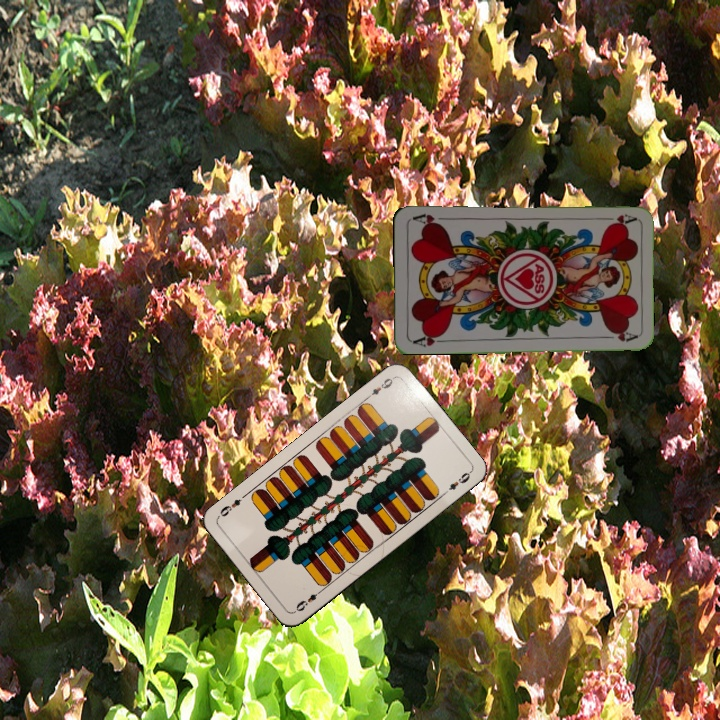E9: (290, 586, 325, 614), (367, 373, 397, 398)
HA: (409, 330, 449, 349), (597, 210, 637, 228)
